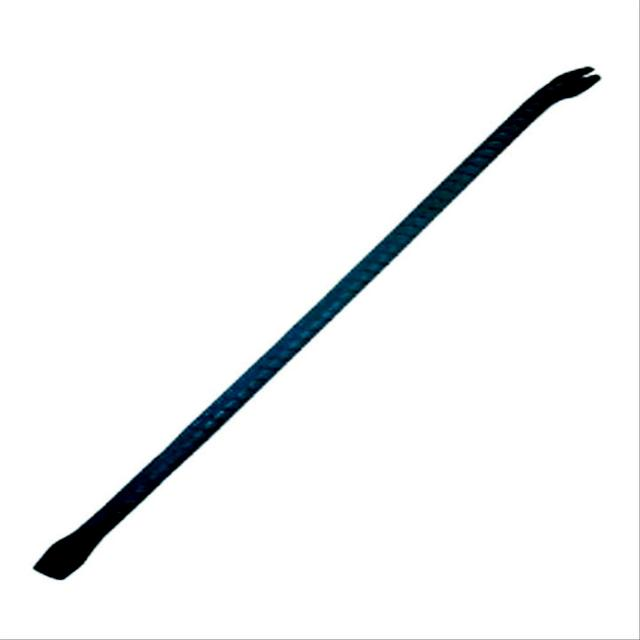crow bar: (20, 48, 604, 592)
